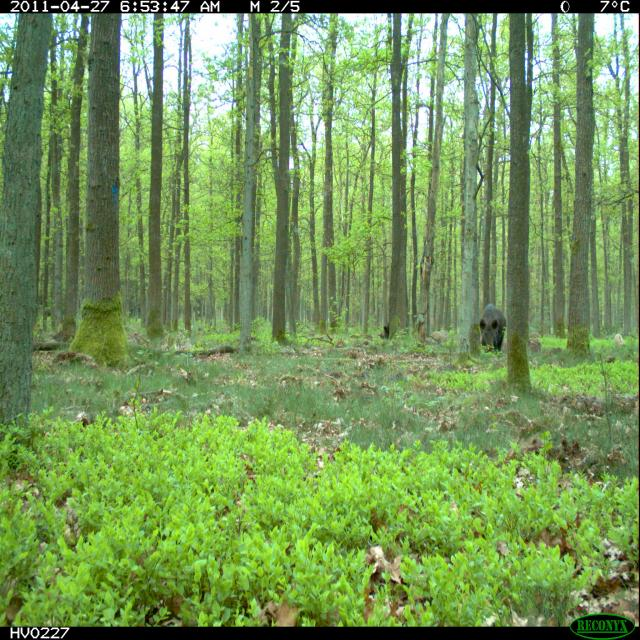boar: (472, 293, 509, 363), (379, 308, 426, 341)
